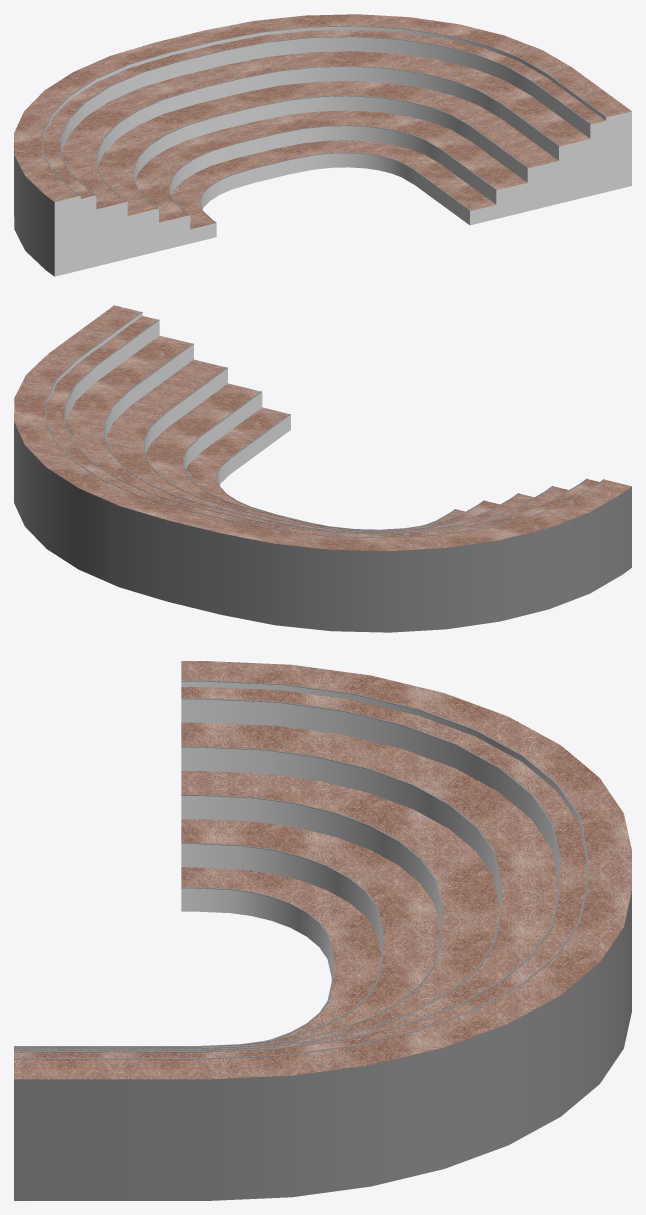
Rendered from Structure.FBX.
The picture shows the model from 3 angles, top to bottom: view 1: azimuth 30°, elevation 25°; view 2: azimuth 150°, elevation 25°; view 3: azimuth 270°, elevation 25°; orthographic projection. The views are drawn at different scales.
Parts seen in each view (by area): view 1: Structure; view 2: Structure; view 3: Structure.
Part boxes in pixels (left/top/right/bottom): Structure: left=14, top=14, right=631, bottom=276; Structure: left=14, top=305, right=631, bottom=632; Structure: left=14, top=661, right=631, bottom=1200.
Size of the model in its own units: 2479 by 338 by 1549.
Materials: 3 (1 with a texture image).
